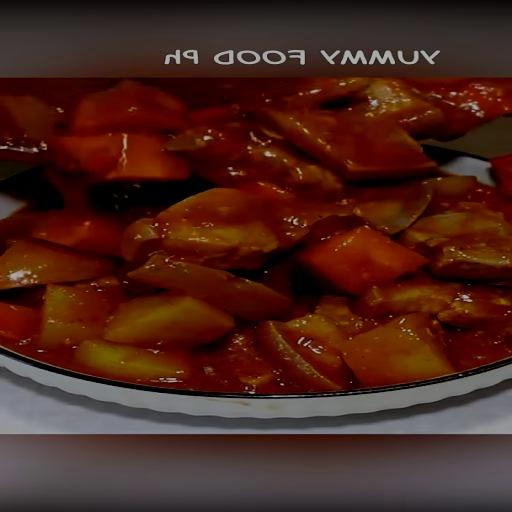pork caldereta: (0, 78, 511, 395)
